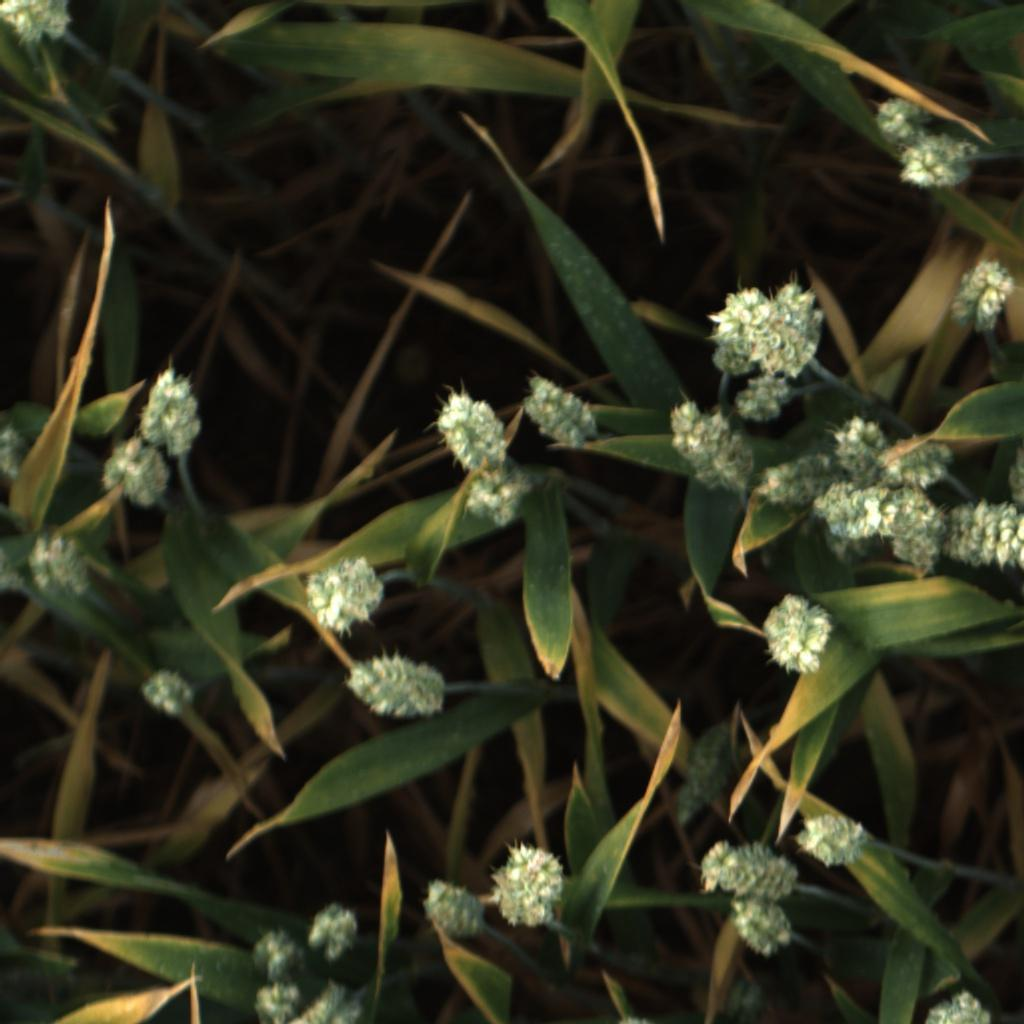0-0: (664, 394, 755, 499), (743, 278, 825, 380), (341, 652, 450, 724), (303, 548, 386, 637), (664, 732, 737, 831), (428, 390, 515, 472), (761, 586, 840, 674), (493, 837, 569, 926), (694, 279, 761, 377), (875, 487, 952, 572), (518, 374, 605, 449), (697, 835, 797, 899), (93, 436, 177, 509), (753, 446, 849, 508), (954, 499, 1024, 579), (26, 524, 96, 603), (895, 133, 977, 200), (143, 356, 201, 450), (950, 258, 1017, 337), (796, 807, 876, 870), (726, 891, 799, 960), (417, 869, 486, 942), (458, 469, 536, 533), (827, 484, 901, 541), (304, 894, 363, 965), (833, 413, 894, 481), (873, 441, 956, 487), (246, 924, 312, 981), (867, 91, 939, 143), (139, 661, 198, 723), (734, 371, 797, 423), (1, 1, 69, 48), (809, 479, 877, 521), (285, 987, 358, 1024), (914, 993, 995, 1024), (252, 980, 304, 1024), (721, 977, 768, 1024), (0, 421, 31, 479), (824, 534, 875, 563), (0, 546, 26, 596), (1005, 445, 1024, 511)
